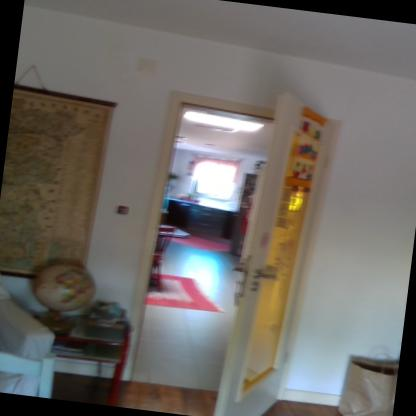semi: (104, 71, 317, 414)
